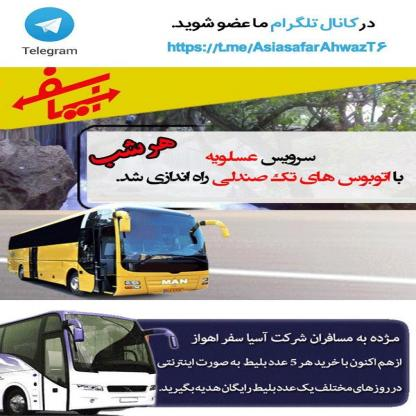Bus: (0, 204, 240, 302), (0, 309, 168, 416)
